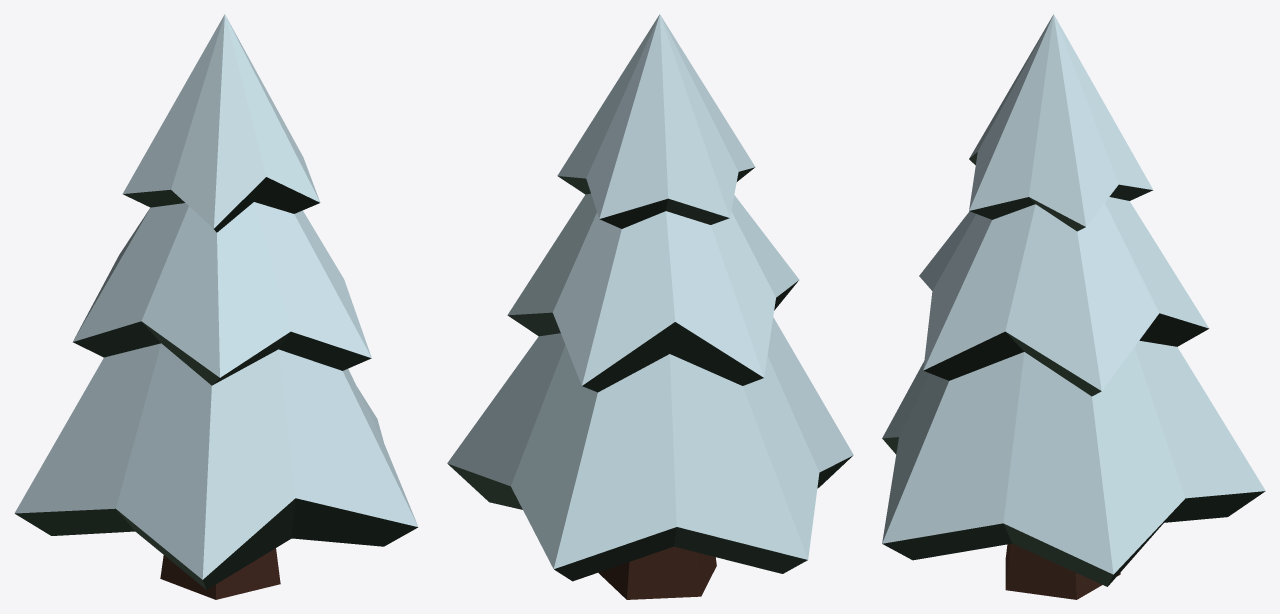
Rendered from treeSmallWhite.glb.
The picture shows the model from 3 angles, left to right: view 1: azimuth 30°, elevation 25°; view 2: azimuth 150°, elevation 25°; view 3: azimuth 270°, elevation 25°; orthographic projection.
Visible parts, largest first — view 1: TreeSmallWhite; view 2: TreeSmallWhite; view 3: TreeSmallWhite.
Boxes of the visible parts, x1,y1,x2,y2 form: TreeSmallWhite: (14, 14, 418, 599); TreeSmallWhite: (447, 14, 853, 599); TreeSmallWhite: (882, 14, 1265, 599).
Size of what is drawn, in the model's own units: 1.66 by 2.46 by 1.53.
1 material, 1 textured.
